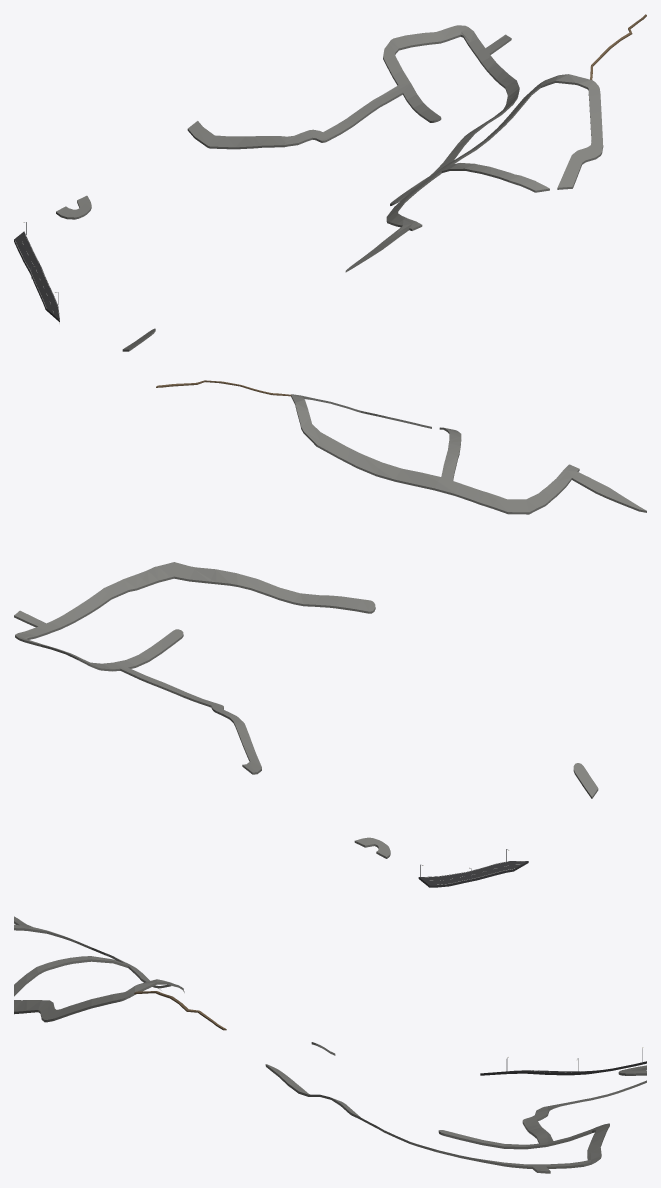
File: 17-109437-59479.faaded95.glb
3 views of the same model, one above another, from view 1: azimuth 30°, elevation 25°; view 2: azimuth 150°, elevation 25°; view 3: azimuth 270°, elevation 25° (orthographic). The views are drawn at different scales.
Size of the model in its own units: 295 by 162 by 292.
